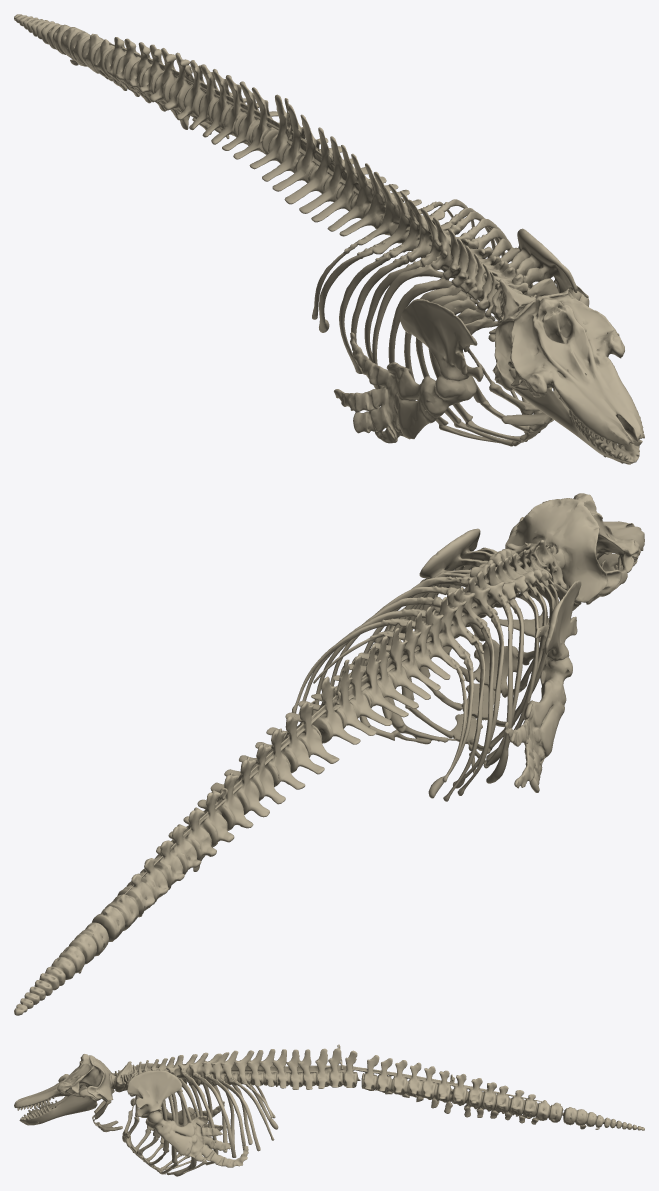
Rendered from orca.glb.
3 views of the same model, one above another, from view 1: azimuth 30°, elevation 25°; view 2: azimuth 150°, elevation 25°; view 3: azimuth 270°, elevation 25° (orthographic). The views are drawn at different scales.
Parts seen in each view (by area): view 1: orca; view 2: orca; view 3: orca.
Part boxes in pixels (box(x1,y1,x2,y2)): orca: box(14, 14, 644, 464); orca: box(14, 493, 644, 1015); orca: box(14, 1044, 644, 1176).
Bounding box in the file's own units: 1.21 × 1.26 × 6.25.
